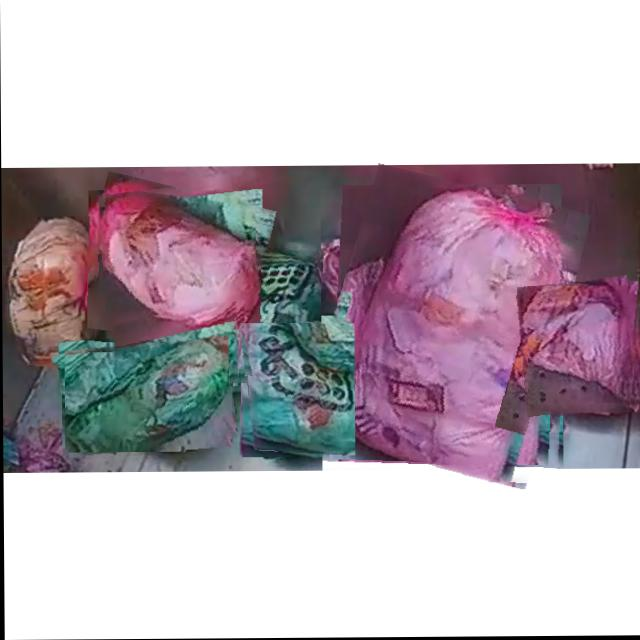general_trashbag: (65, 339, 227, 452), (245, 325, 354, 456), (204, 257, 318, 369), (113, 305, 240, 387)
other_trashbag: (322, 188, 567, 484), (99, 190, 256, 338), (9, 218, 96, 365), (527, 287, 634, 405)
